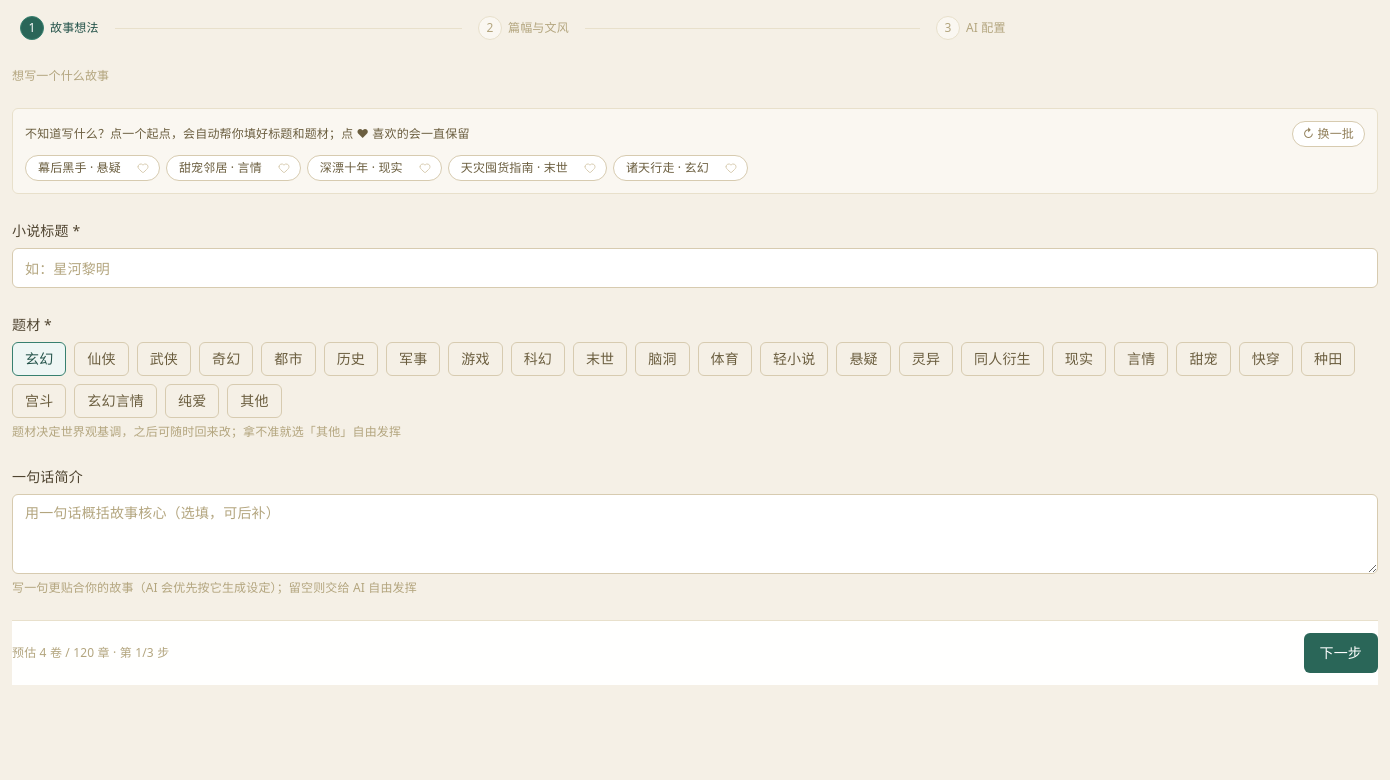
it: ProjectForm（三步向导） › 向导导航：第 1 步无上一步；回跳已完成步保留已填值
Expected: the button "上一步" is not shown
Type "星河黎明" into the field with placeholder "如：星河黎明". click: [695, 268]
box: [12,248,1378,288]
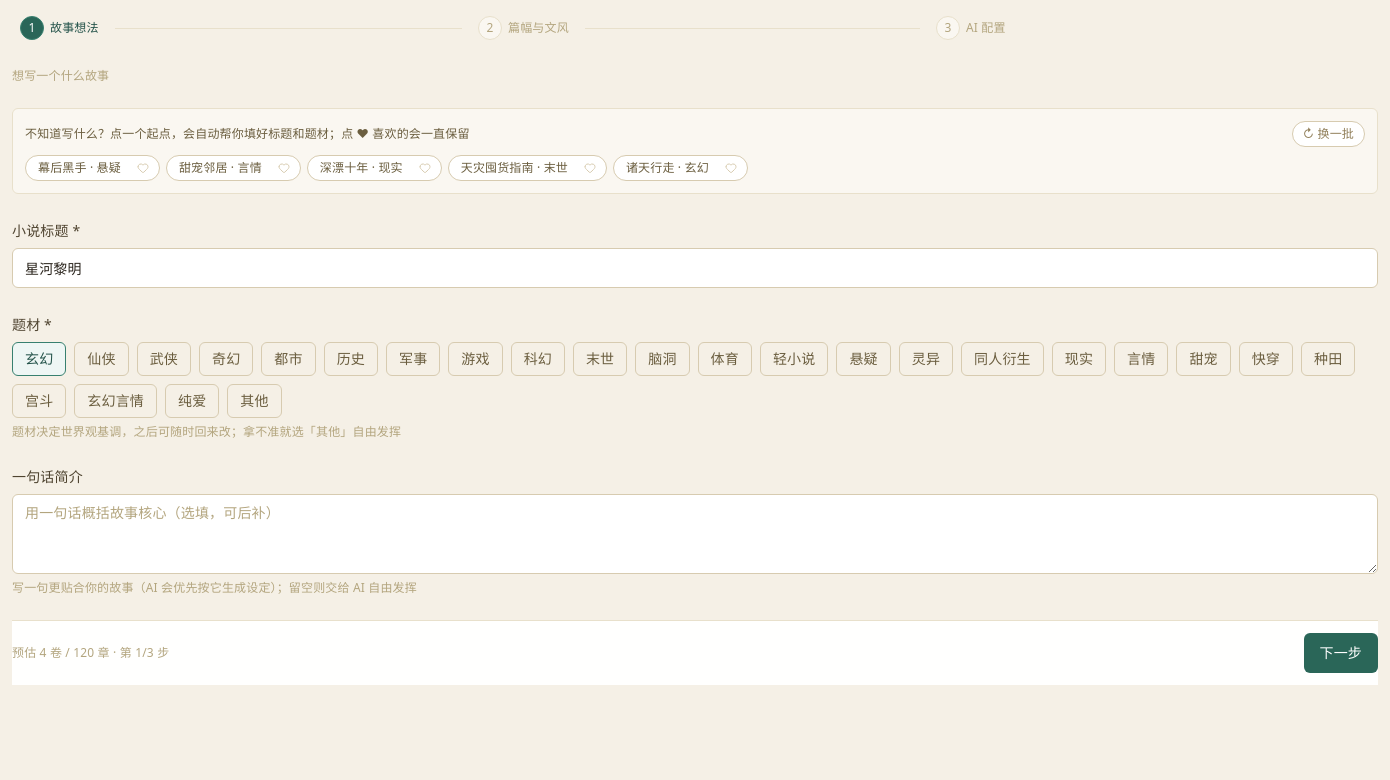
Type "一个关于星辰的故事" into the text box labelled "一句话简介". click: [695, 534]
box: [12,494,1378,574]
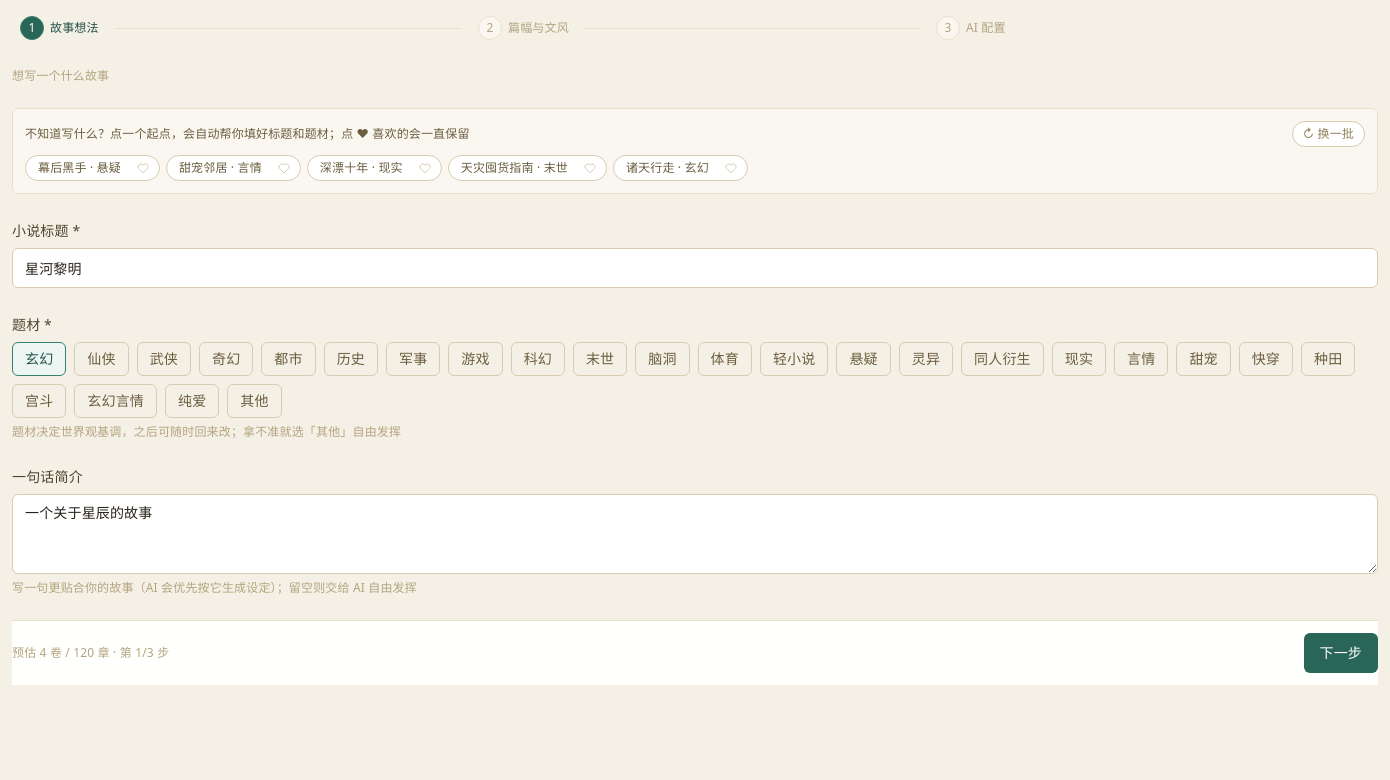
Click the button "下一步". click: [1341, 653]
box: [1304,633,1378,673]
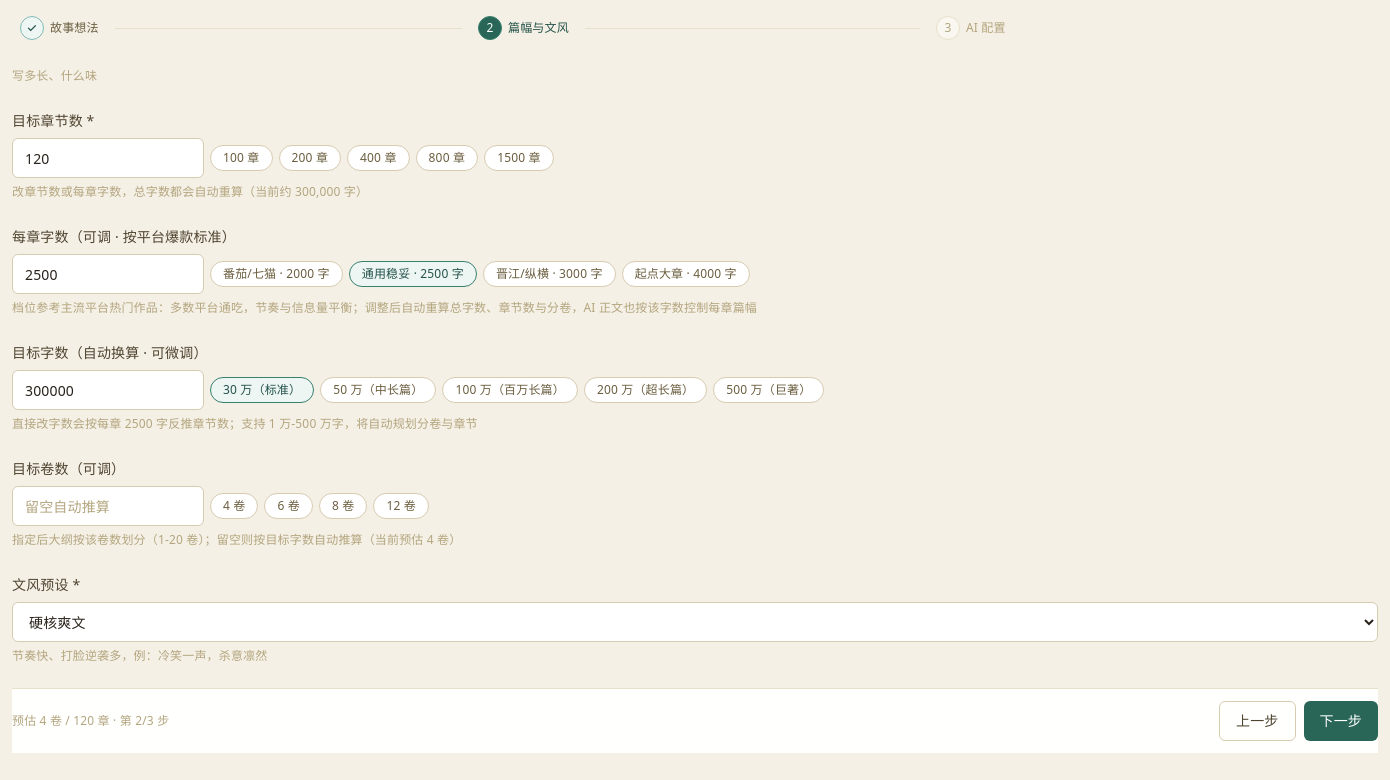
Result: the number field labelled "目标章节数 *" is shown at [12,138,204,178]
Click the button "上一步". click: [1257, 721]
box: [1219,701,1296,741]
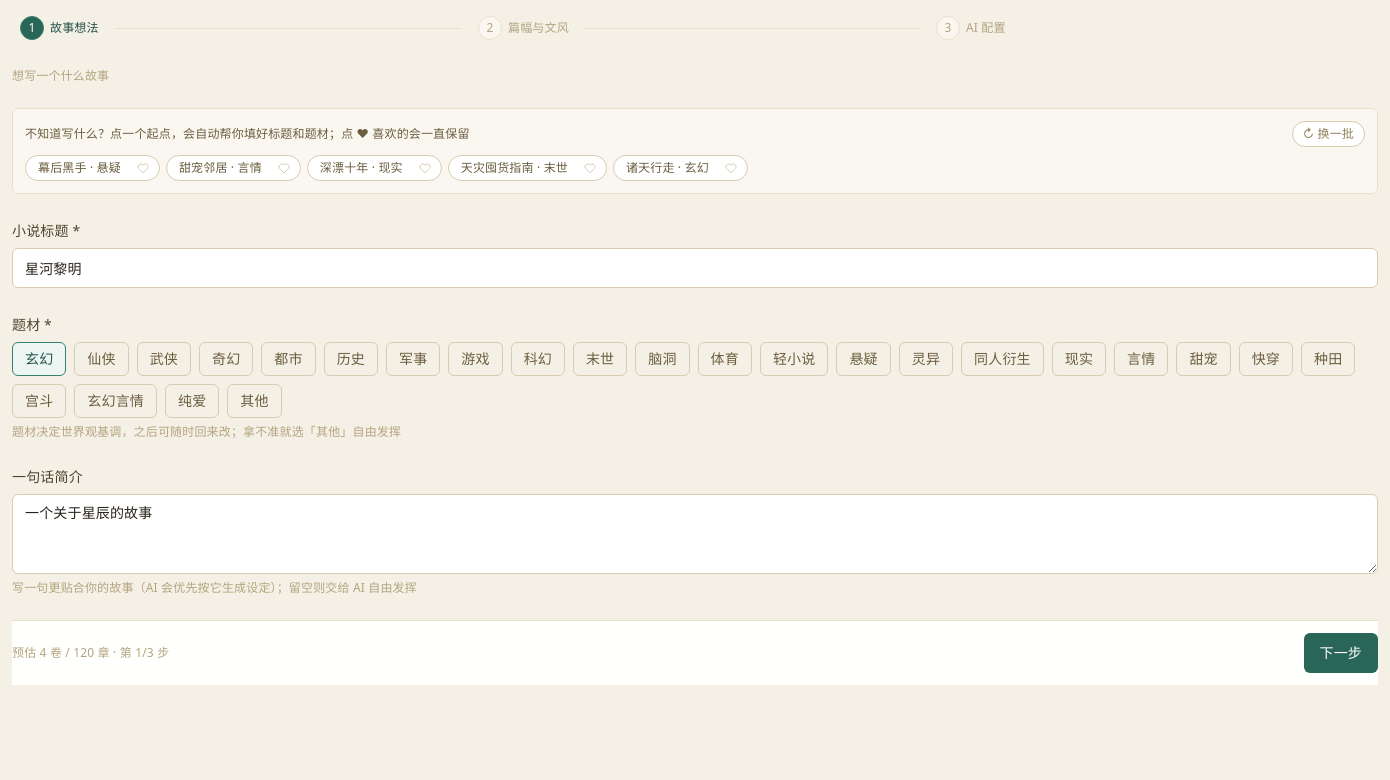
Expected: the button "2 篇幅与文风" is shown, [470,12,577,44]
Result: the field showing "星河黎明" is shown at [12,248,1378,288]
